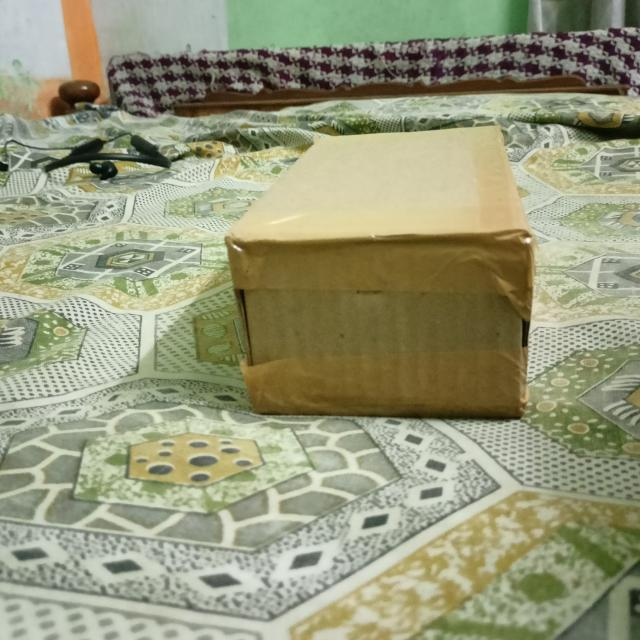box: (226, 230, 527, 414)
